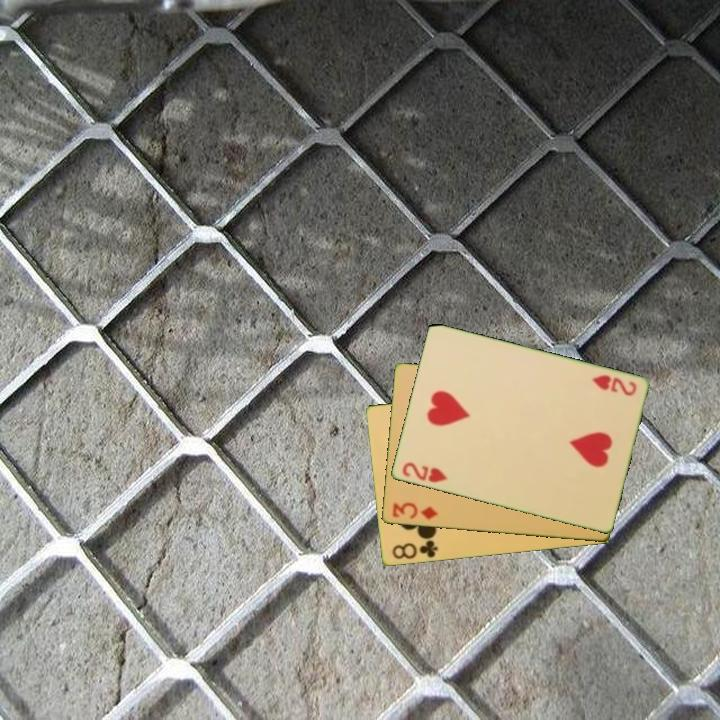2h: (588, 371, 639, 399), (398, 459, 450, 486)
3d: (389, 499, 440, 523)
8c: (388, 536, 440, 562)
